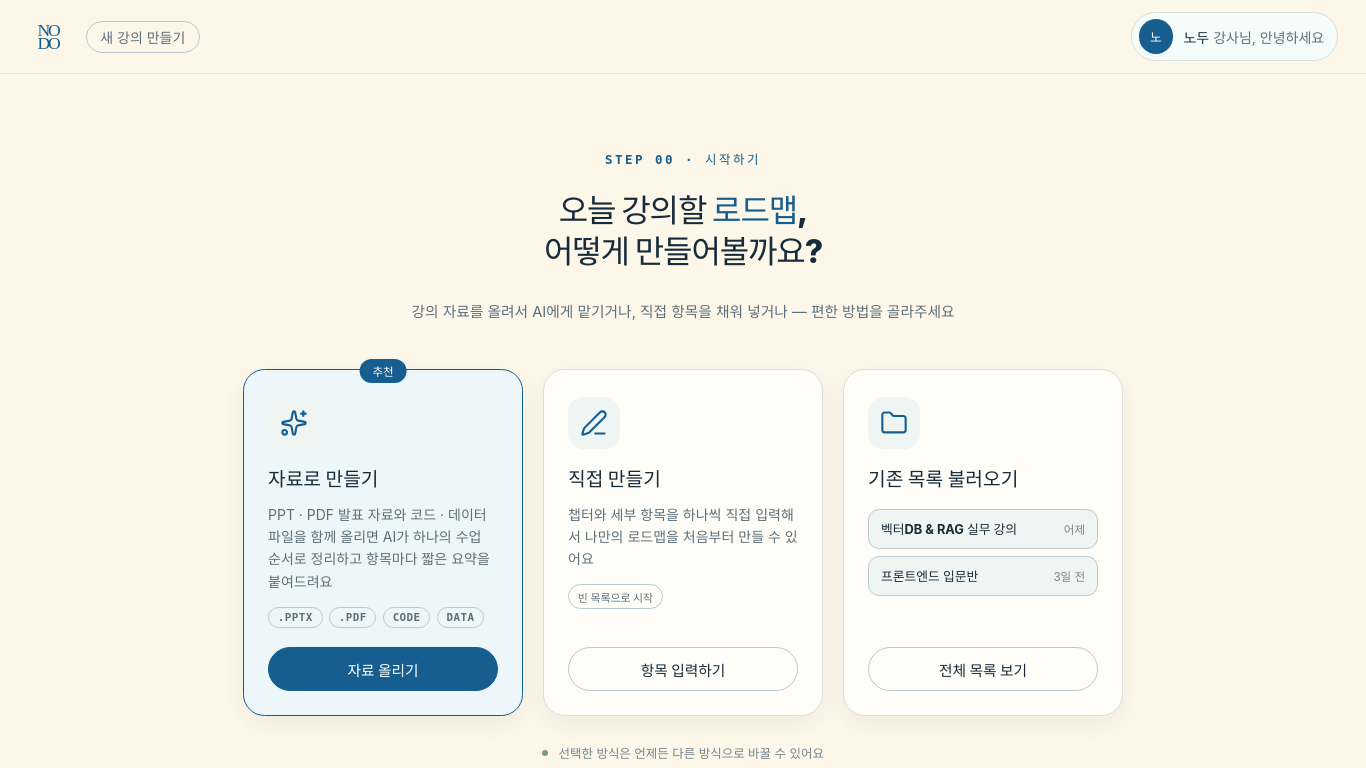
it: AppRoutes › 항목 입력하기 링크가 /create/manual 제작 화면으로 이동한다
This screenshot has width=1366, height=768.
Click the link "항목 입력하기": (683, 669) [568,647,798,691]
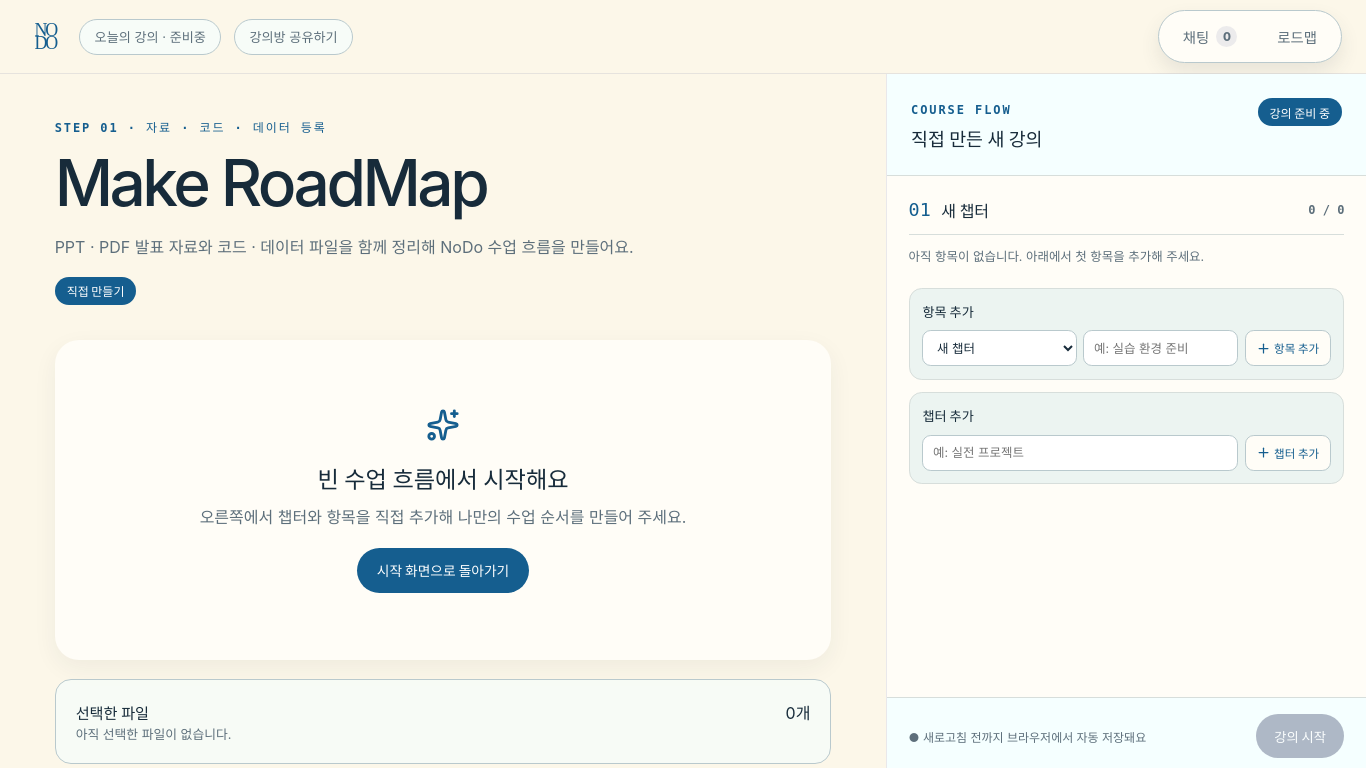
Expected: the text "직접 만들기" is shown, [55,277,136,305]
Result: the heading "Make RoadMap" is shown at [55,144,486,221]
